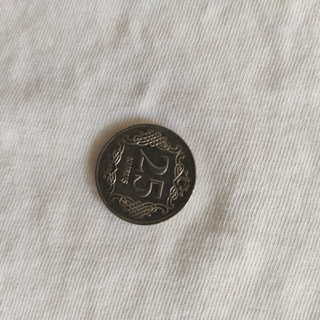25KURUS: (93, 121, 196, 226)
